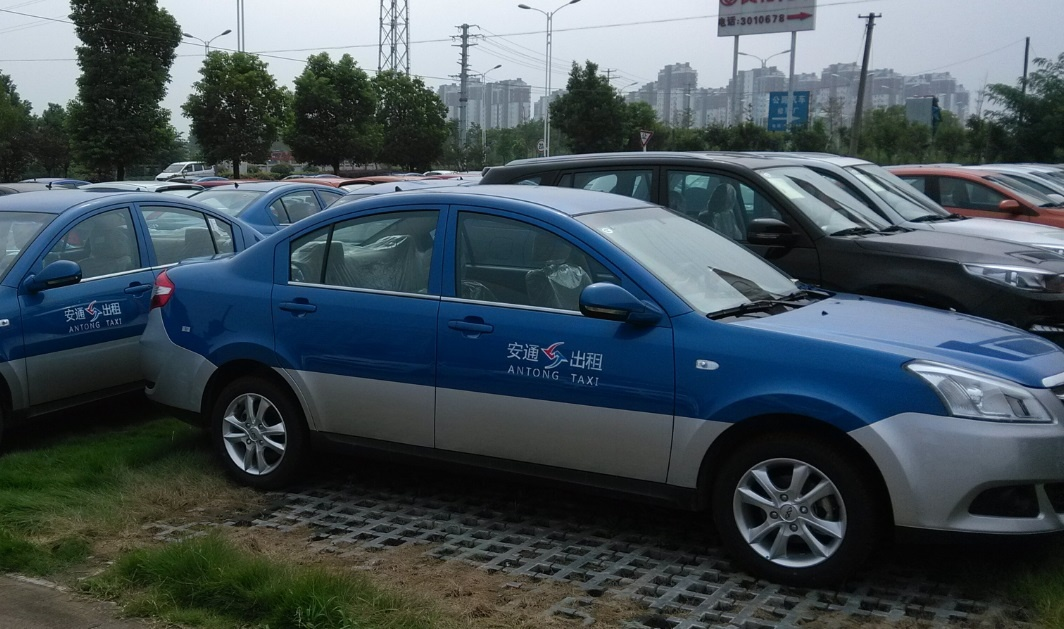family sedan: (448, 144, 1064, 324)
taxi: (147, 171, 1063, 575), (7, 180, 249, 442)
